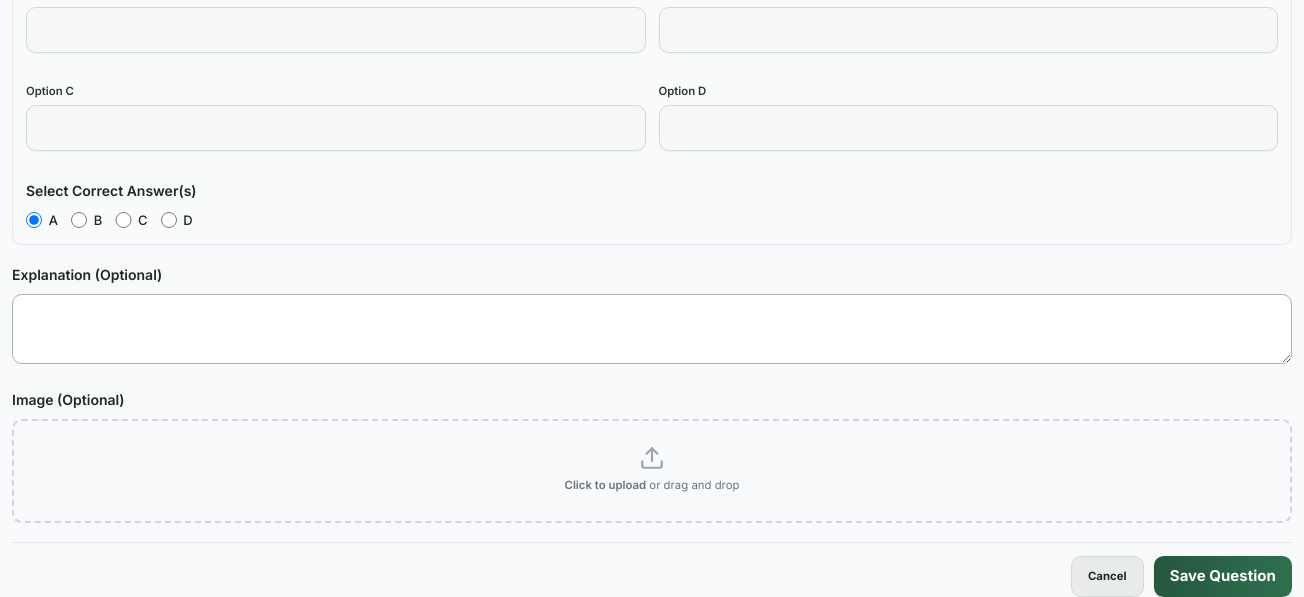
Test case: Batch 2: Host Portal Comprehensive Automated Tests › Question Management & Question Form › validates required fields for Single Choice questions
This screenshot has width=1304, height=597.
(page scrolled)
# Submit empty question form
Click the button "Save Question" at (1223, 576), box [1154,556,1292,596]
(page scrolled)
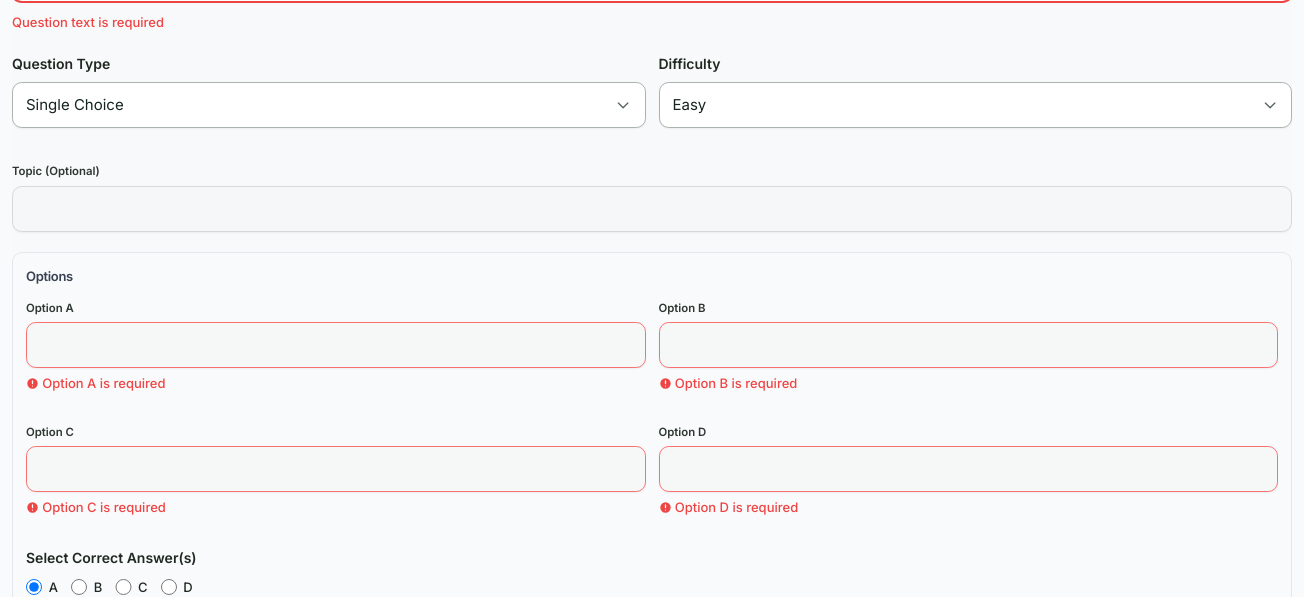
Expected: the text "Question text is required" is shown, [12,14,164,30]
